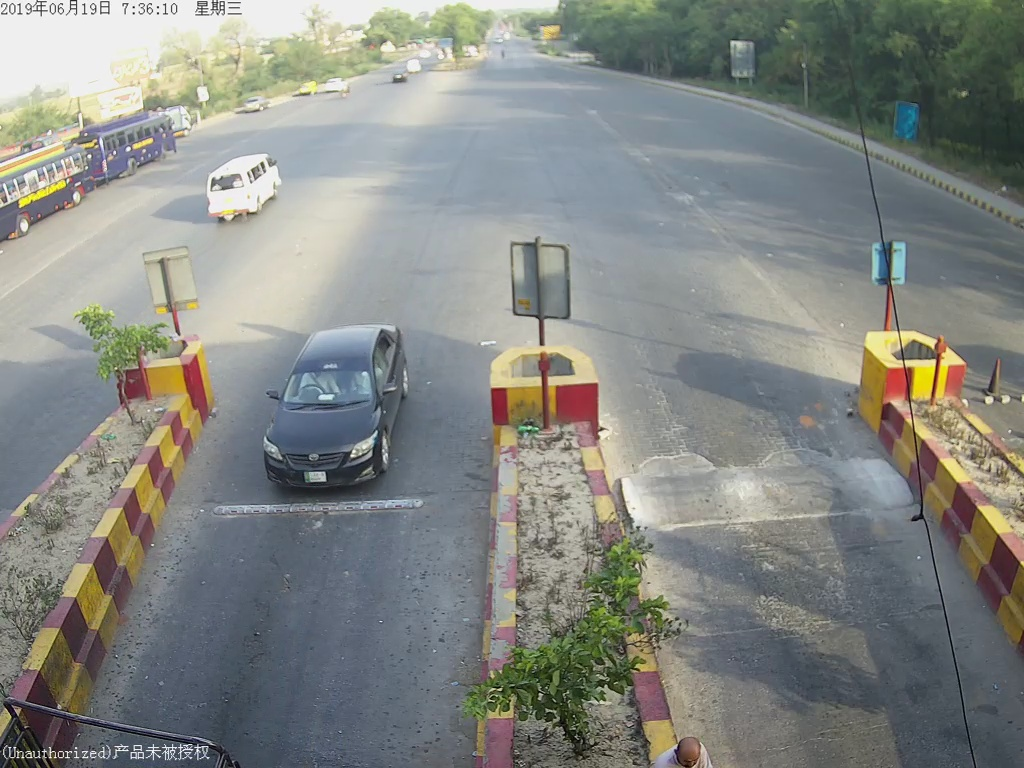Cat-1: (253, 330, 419, 486)
